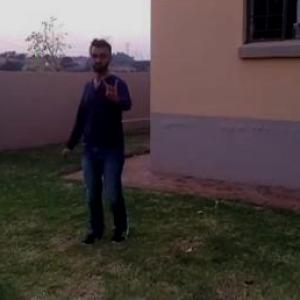takeoff-hand: (98, 66, 124, 102)
